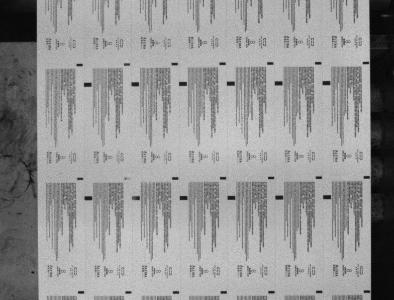backgroundclutter: (31, 271, 35, 274)
incorrect qblock: (84, 196, 93, 200), (132, 196, 140, 200), (125, 291, 132, 294), (172, 177, 179, 180), (124, 177, 131, 180), (124, 63, 130, 66)
qblock: (179, 81, 187, 86), (227, 81, 235, 86), (84, 82, 92, 87), (323, 195, 332, 199), (228, 196, 236, 200), (180, 196, 188, 200), (276, 195, 284, 199), (131, 82, 139, 86), (275, 81, 283, 85), (323, 81, 331, 85), (220, 176, 227, 180), (171, 62, 178, 66), (268, 176, 275, 179), (316, 176, 323, 179), (267, 62, 274, 65), (315, 62, 322, 65), (76, 63, 83, 66), (363, 61, 370, 64), (220, 62, 226, 65)
smallqblock: (78, 291, 85, 294), (173, 291, 180, 294), (269, 290, 276, 293), (221, 291, 228, 294), (316, 290, 323, 293), (364, 290, 371, 293), (77, 177, 84, 180), (364, 176, 371, 179)
